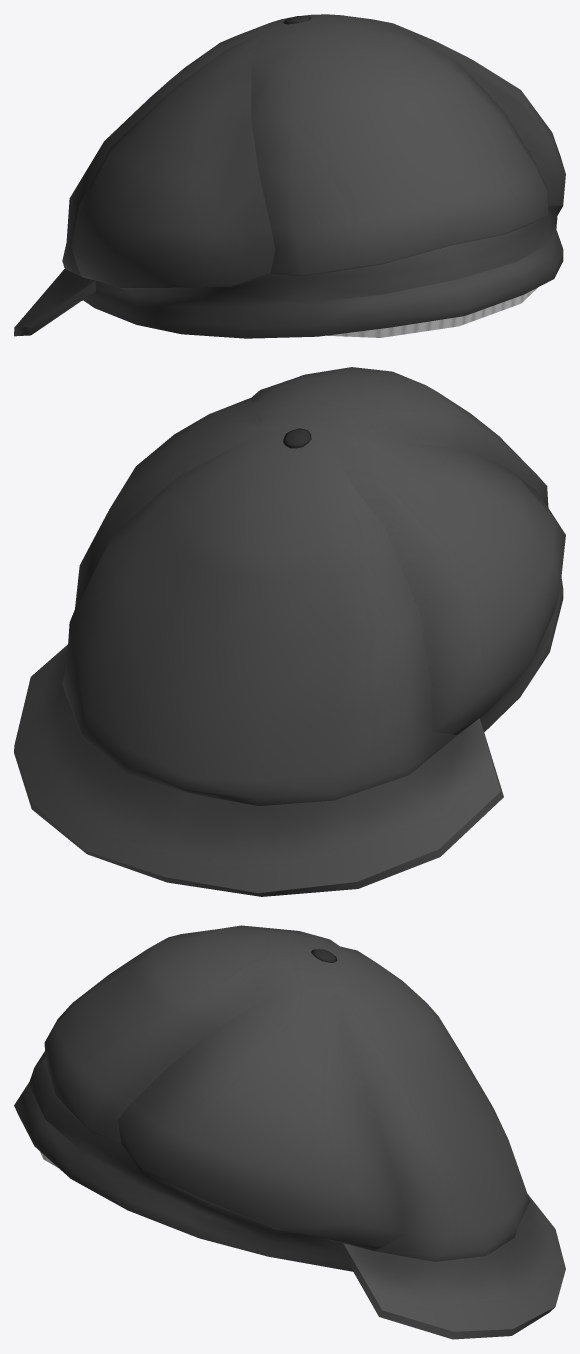
File: FlatCap_obsidian.glb
3 views of the same model, one above another, from view 1: azimuth 30°, elevation 25°; view 2: azimuth 150°, elevation 25°; view 3: azimuth 270°, elevation 25° (orthographic). The views are drawn at different scales.
Visible parts, largest first — view 1: Cube; view 2: Cube; view 3: Cube.
Boxes of the visible parts, x1,y1,x2,y2 form: Cube: (14,14,565,338); Cube: (14,367,565,896); Cube: (14,925,565,1339).
Bounding box in the file's own units: 0.2121 × 0.1552 × 0.2342.
1 material, 1 textured.
